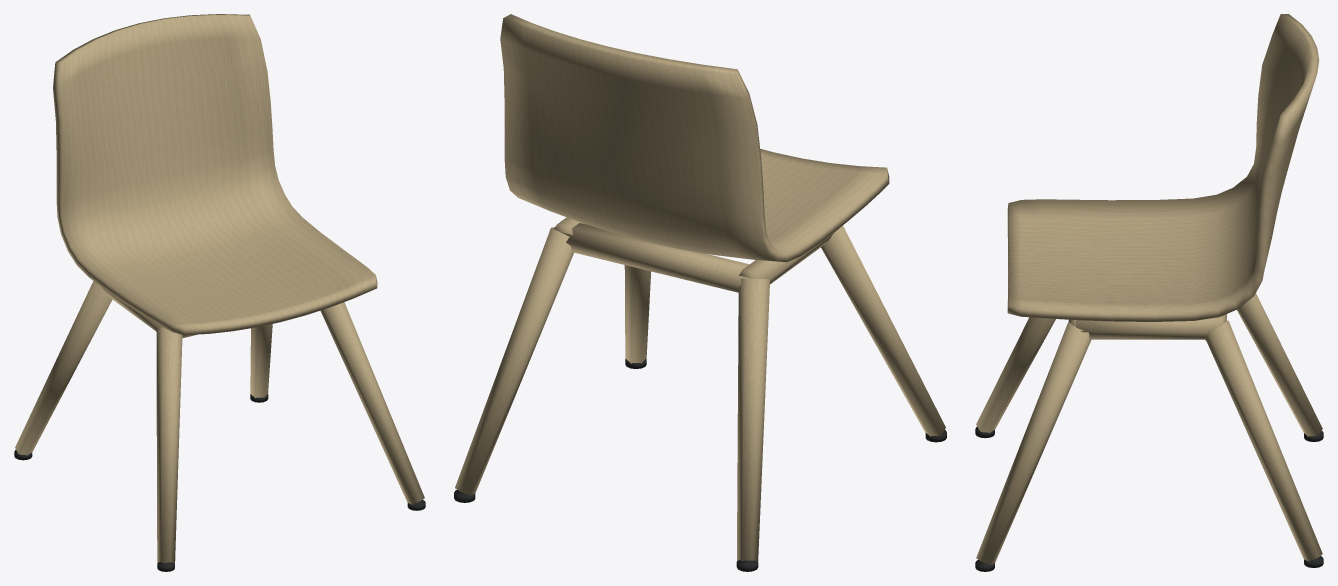
Rendered from lod2_source.glb.
3 views of the same model, side by side, from view 1: azimuth 30°, elevation 25°; view 2: azimuth 150°, elevation 25°; view 3: azimuth 270°, elevation 25° (orthographic). The views are drawn at different scales.
Visible parts, largest first — view 1: Pale continuous scooped plywood seat and back, Pale front splayed leg -1, Pale front splayed leg 1, Pale rear splayed leg -1, Pale rear splayed leg 1; view 2: Pale continuous scooped plywood seat and back, Pale rear splayed leg -1, Pale rear splayed leg 1, Pale front splayed leg -1, Underseat rear wood crosspiece, Pale front splayed leg 1, Underseat wood side stretcher -1; view 3: Pale continuous scooped plywood seat and back, Pale rear splayed leg 1, Pale front splayed leg 1, Pale rear splayed leg -1, Pale front splayed leg -1, Underseat wood side stretcher 1.
Part boxes in pixels (bbox=[...]): Pale continuous scooped plywood seat and back: bbox=[53, 14, 377, 335]; Pale front splayed leg -1: bbox=[156, 327, 182, 562]; Pale front splayed leg 1: bbox=[320, 302, 424, 504]; Pale rear splayed leg -1: bbox=[15, 281, 112, 455]; Pale rear splayed leg 1: bbox=[250, 324, 272, 398]; Pale continuous scooped plywood seat and back: bbox=[500, 14, 889, 262]; Pale rear splayed leg -1: bbox=[737, 278, 770, 560]; Pale rear splayed leg 1: bbox=[455, 227, 573, 495]; Pale front splayed leg -1: bbox=[821, 225, 945, 436]; Underseat rear wood crosspiece: bbox=[560, 223, 750, 292]; Pale front splayed leg 1: bbox=[624, 265, 651, 363]; Underseat wood side stretcher -1: bbox=[739, 228, 839, 284]; Pale continuous scooped plywood seat and back: bbox=[1007, 14, 1319, 321]; Pale rear splayed leg 1: bbox=[1206, 320, 1322, 561]; Pale front splayed leg 1: bbox=[976, 322, 1091, 564]; Pale rear splayed leg -1: bbox=[1237, 293, 1322, 436]; Pale front splayed leg -1: bbox=[976, 317, 1055, 433]; Underseat wood side stretcher 1: bbox=[1076, 315, 1222, 339].
Size of the model in its own units: 0.584 by 0.8492 by 0.605.
Materials: 2 (1 with a texture image).
